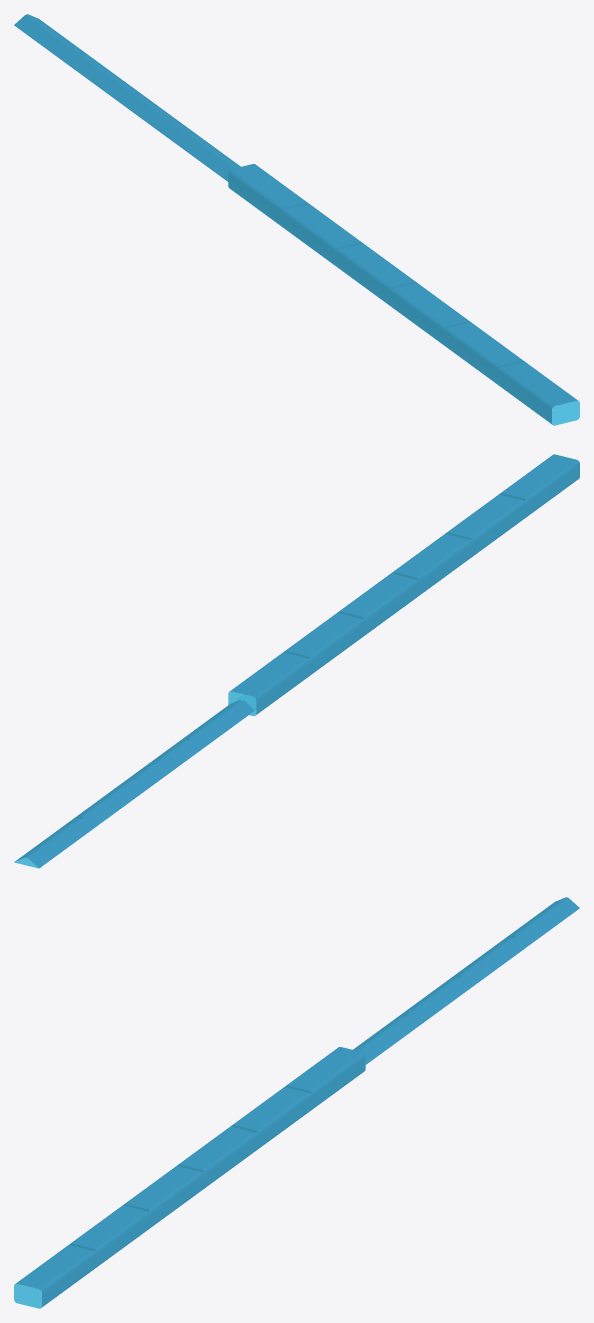
File: precomputed_components_qkv.glb
3 views of the same model, one above another, from view 1: azimuth 30°, elevation 25°; view 2: azimuth 150°, elevation 25°; view 3: azimuth 330°, elevation 25° (orthographic).
Size of the model in its own units: 150 by 100 by 5000.
